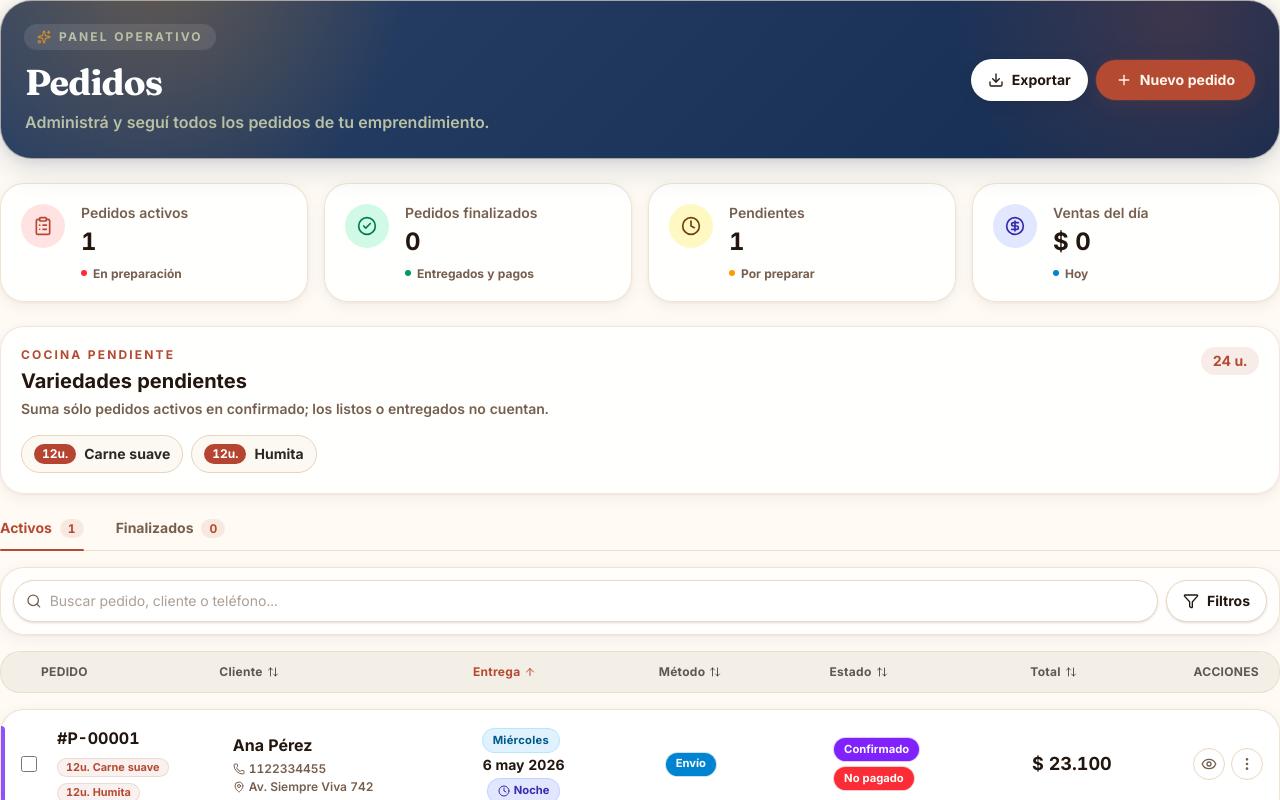
Scenario: OrdersPage › shows the mobile order wizard and advances through the three steps
Click the button with aria-label "+ nuevo pedido": (1175, 80) [1096, 60, 1255, 100]
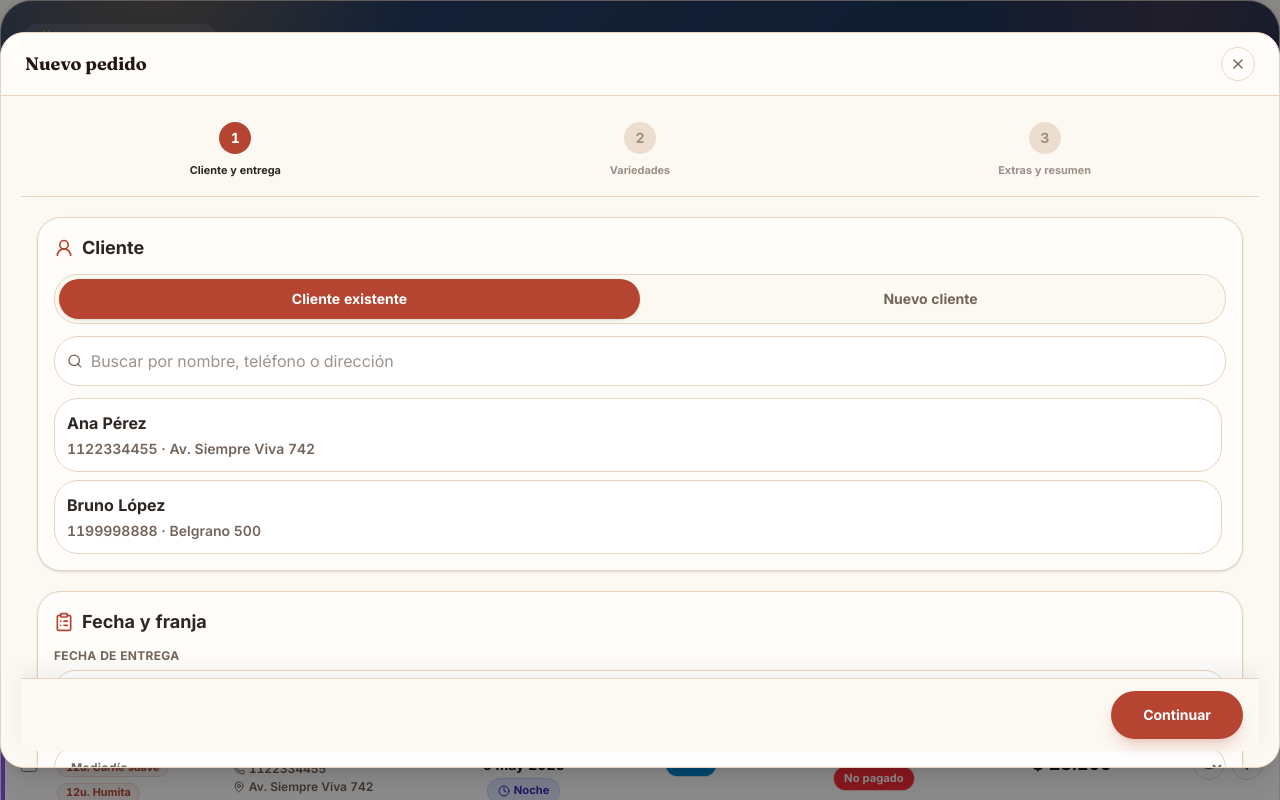
Expected: the heading "Nuevo pedido" is shown, [25, 50, 147, 78]
Expected: the text "Cliente y entrega" is shown, [190, 162, 281, 178]
Expected: the text "Variedades" is shown, [610, 162, 670, 178]
Click the button "Continuar": (1177, 715) [1111, 691, 1243, 739]
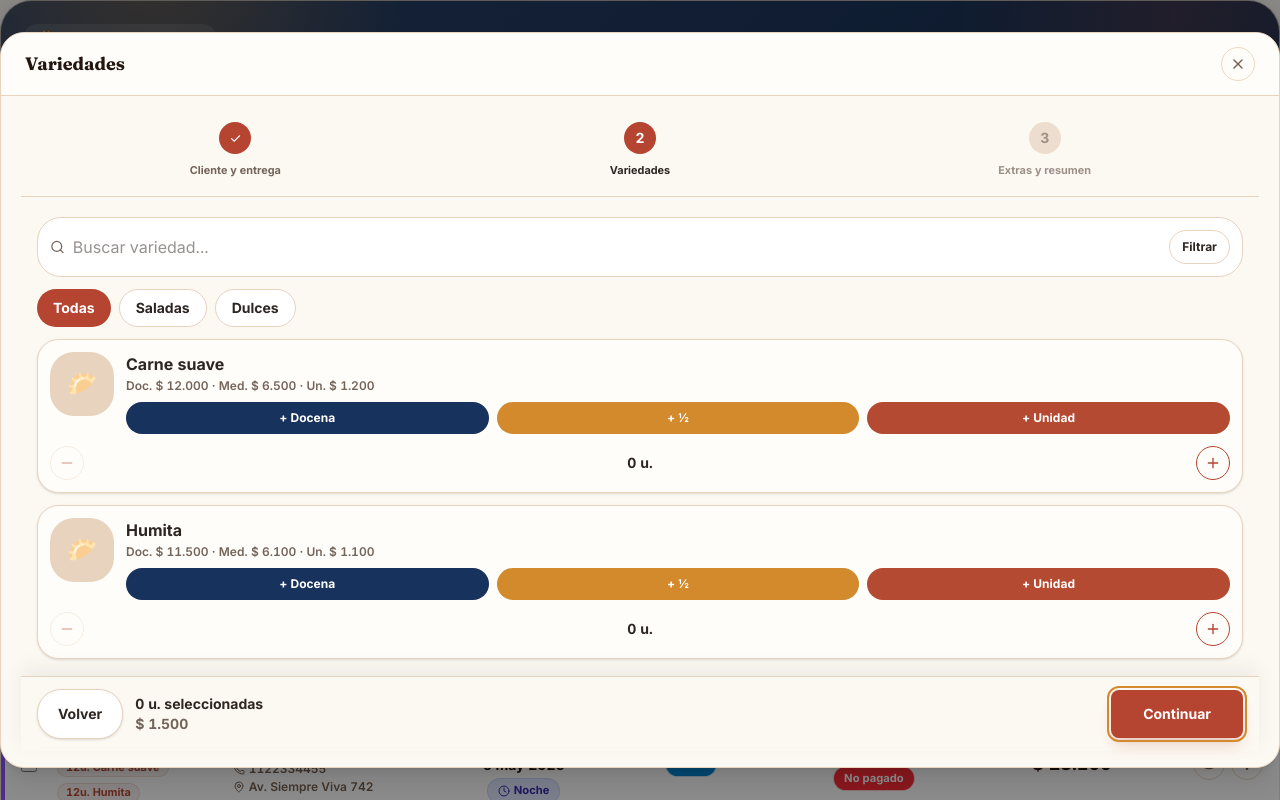
Expected: the button "Continuar" is shown
Expected: the heading "Variedades" is shown, [25, 50, 125, 78]
Click the button "Continuar": (1177, 714) [1111, 690, 1243, 738]
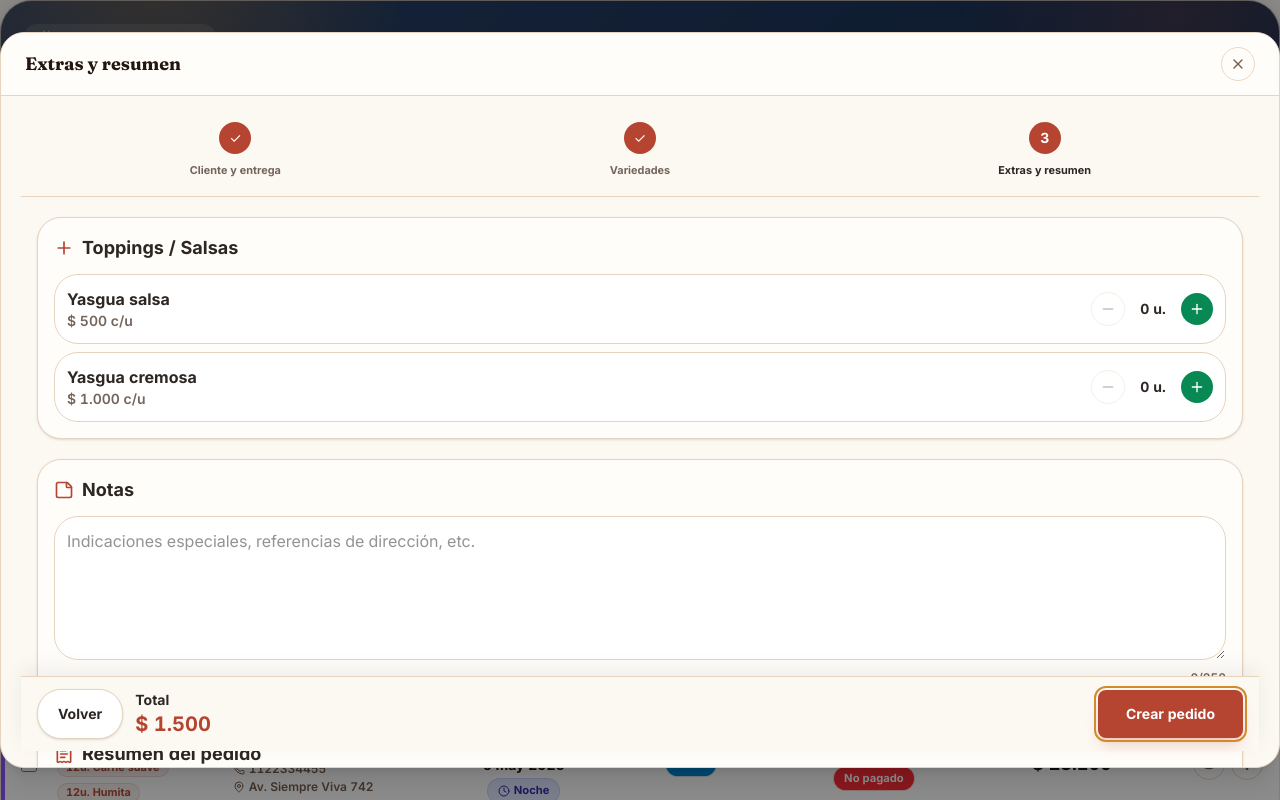
Expected: the heading "Extras y resumen" is shown, [25, 50, 181, 78]
Expected: the button "Crear pedido" is shown, [1098, 690, 1243, 738]
